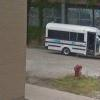Bus: (43, 17, 100, 65)
